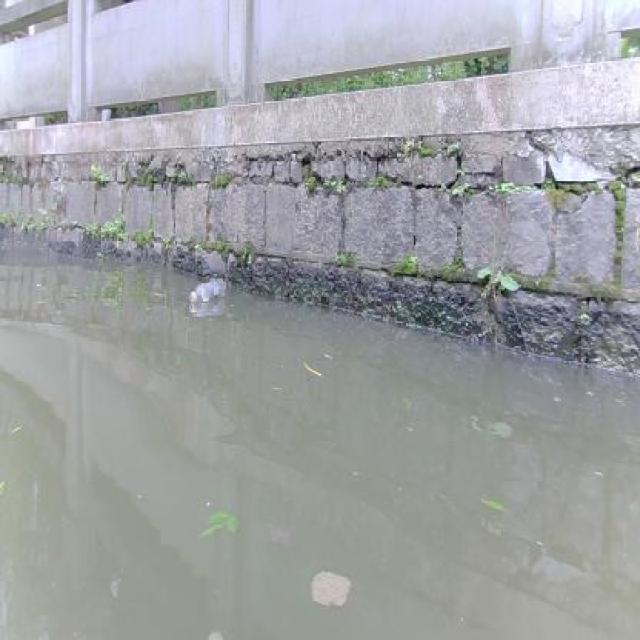Bottle: (173, 272, 236, 310)
